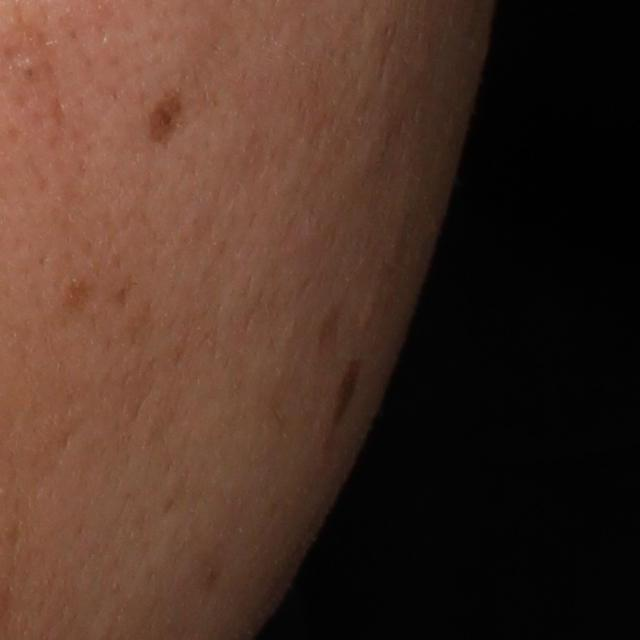nevus: (146, 90, 193, 154), (334, 350, 362, 427)
